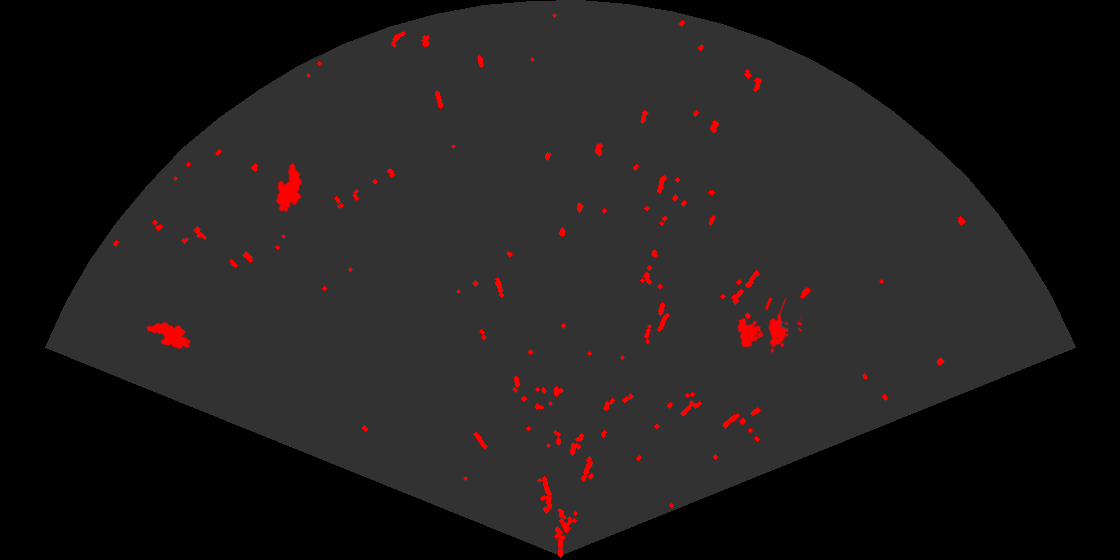AUV: (274, 161, 303, 214), (145, 321, 192, 351)
cage: (736, 298, 802, 355)
